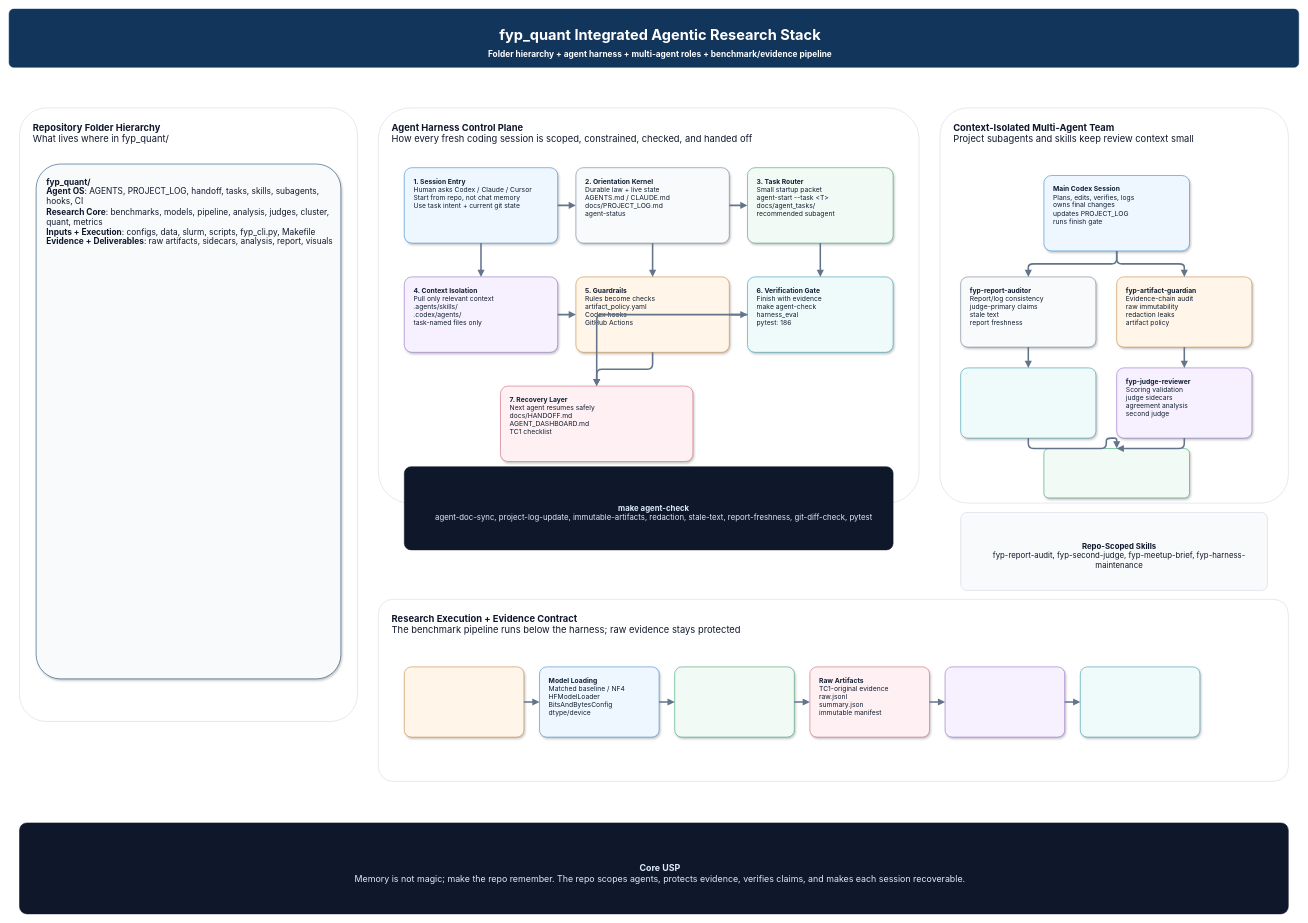
Some shapes in this 1308 by 923 pixel diagram are drawn without their labels. The shapes that lost their labels are listed below. From the top down, each one's centre as x and y in pixels, then its label:
At (1028,403): "fyp-tc1-ops Cluster workflow safety sbatch-only offline env vars SLURM scripts".
At (1117,474): "fyp-meetup-story Human explanation USP narrative demo + memory".
At (464,702): "Config + Data Study inputs configs/*.yaml XSTest CSV HF cached datasets".
At (734,702): "Benchmarks Plugins score outputs HarmBench XSTest MMLU subset".
At (1005,702): "Derived Scoring No overwrites scores.v2.* scores.judge.* redacted only".
At (1140,702): "Analysis + Report Defensible output pairwise deltas judge agreement FYP report".
